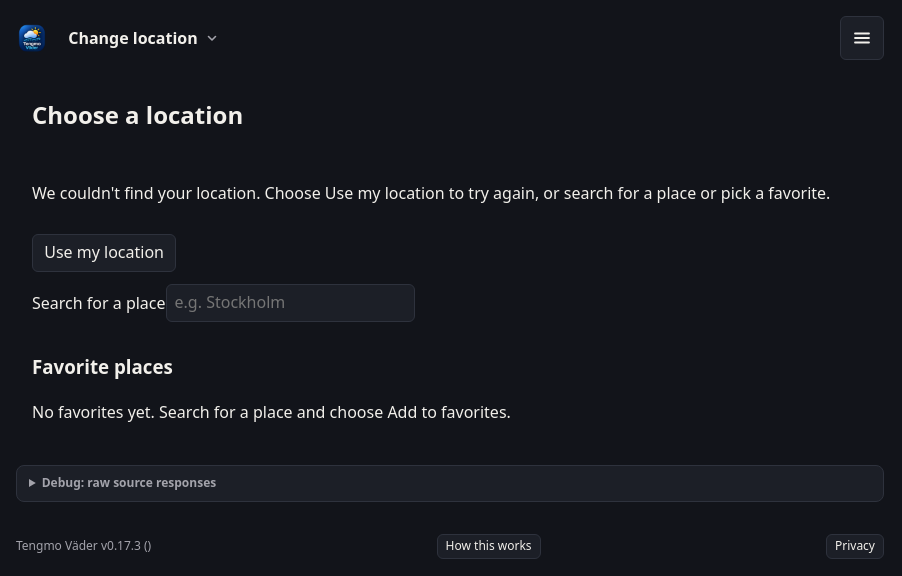
Scenario: Consolidated header controls (018-dashboard-visual-redesign, US1) › opens the Settings menu to reveal only unit and high/low controls, and toggles the unit (US2)
Step 1. Click the button named "Menu" → x=862, y=38, box [840, 16, 884, 60]
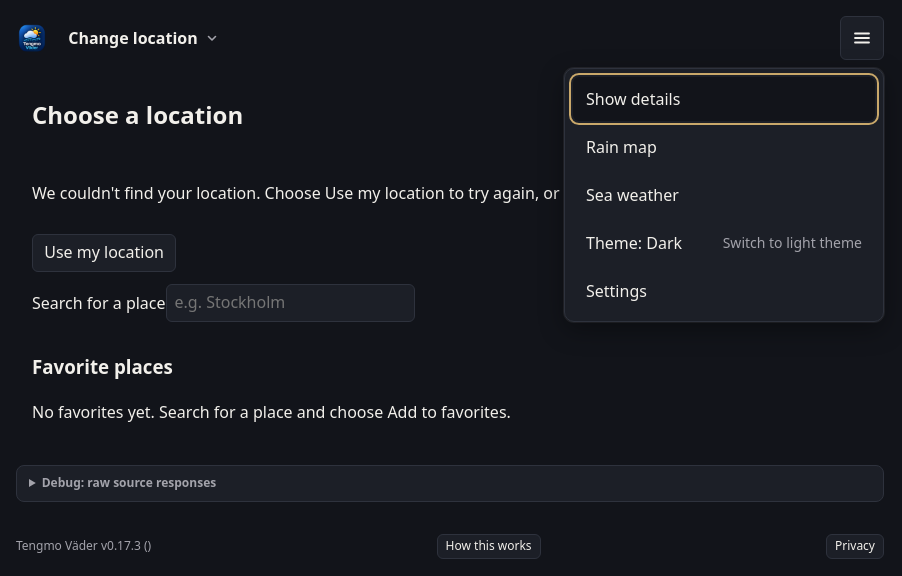
Step 2. Click the menu item "Settings" → x=616, y=291, box [573, 269, 875, 313]
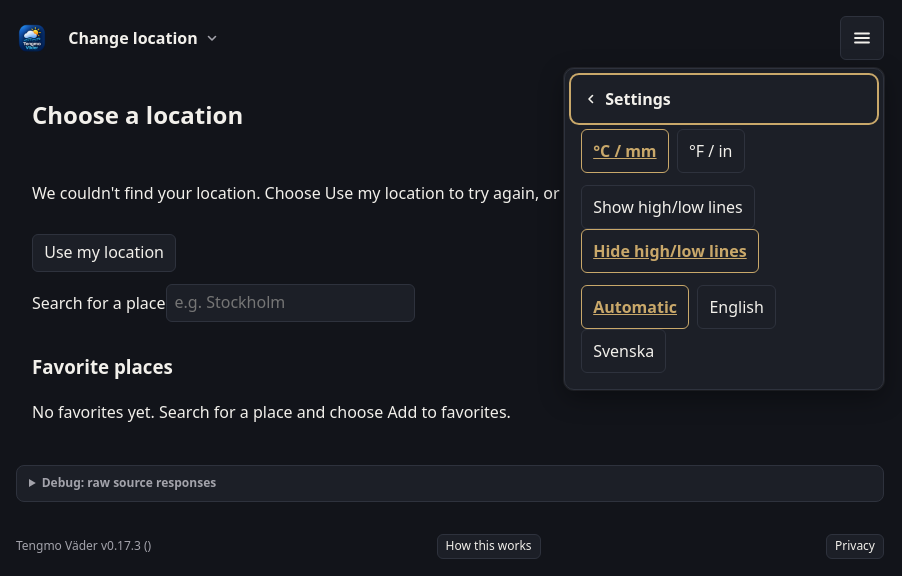
Check: the element that starts with "°C / mm" is shown, box [581, 129, 776, 373]
Check: the element that starts with "°C / mm" shows "high/low", box [581, 185, 755, 229]
Check: the menu item with class "theme-toggle" is gone
